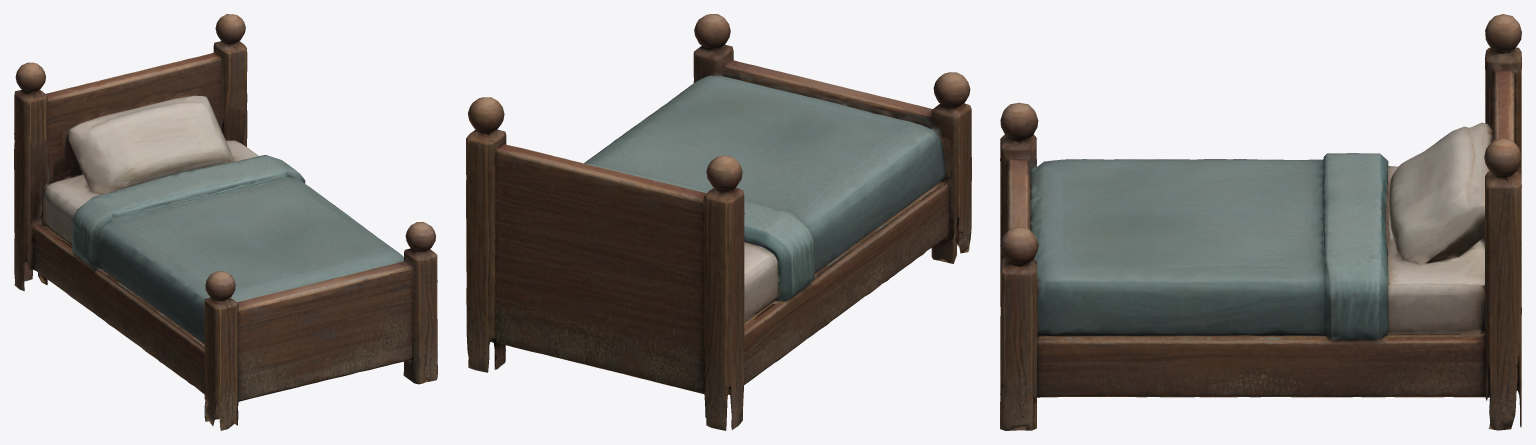
The model's file is Furn_ChildBed.fbx.
The picture shows the model from 3 angles, left to right: view 1: azimuth 30°, elevation 25°; view 2: azimuth 150°, elevation 25°; view 3: azimuth 270°, elevation 25°; orthographic projection. The views are drawn at different scales.
Parts seen in each view (by area): view 1: texture_mapping; view 2: texture_mapping; view 3: texture_mapping.
Boxes of the visible parts, x1,y1,x2,y2 form: texture_mapping: (14,14,437,430); texture_mapping: (466,14,971,430); texture_mapping: (1000,14,1521,430).
Size of the model in its own units: 0.6393 by 1 by 0.6007.
Materials: 1 (1 with a texture image).
